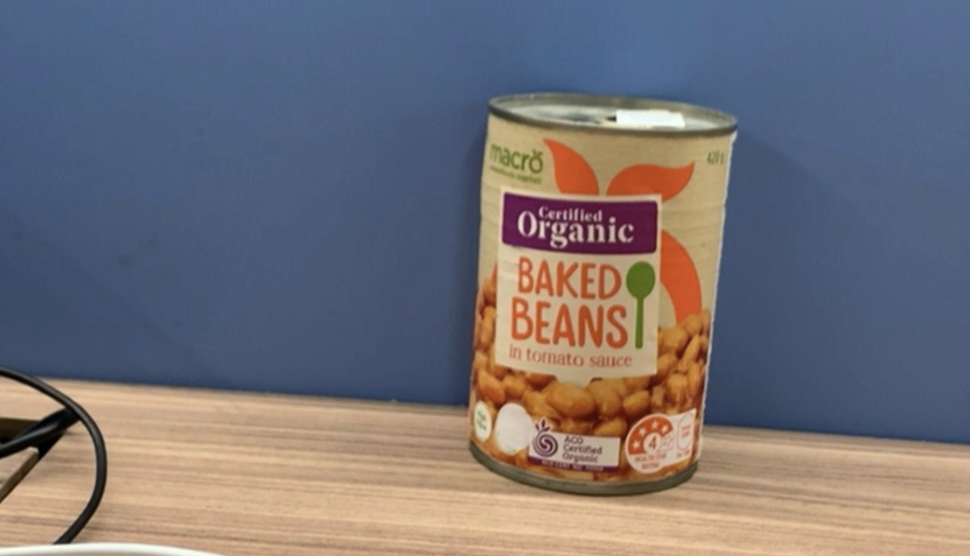Baked beans_450g: (483, 153, 687, 456)
